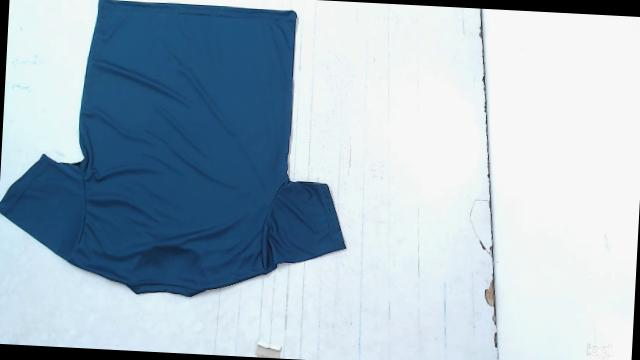new-garment: (0, 0, 345, 295)
